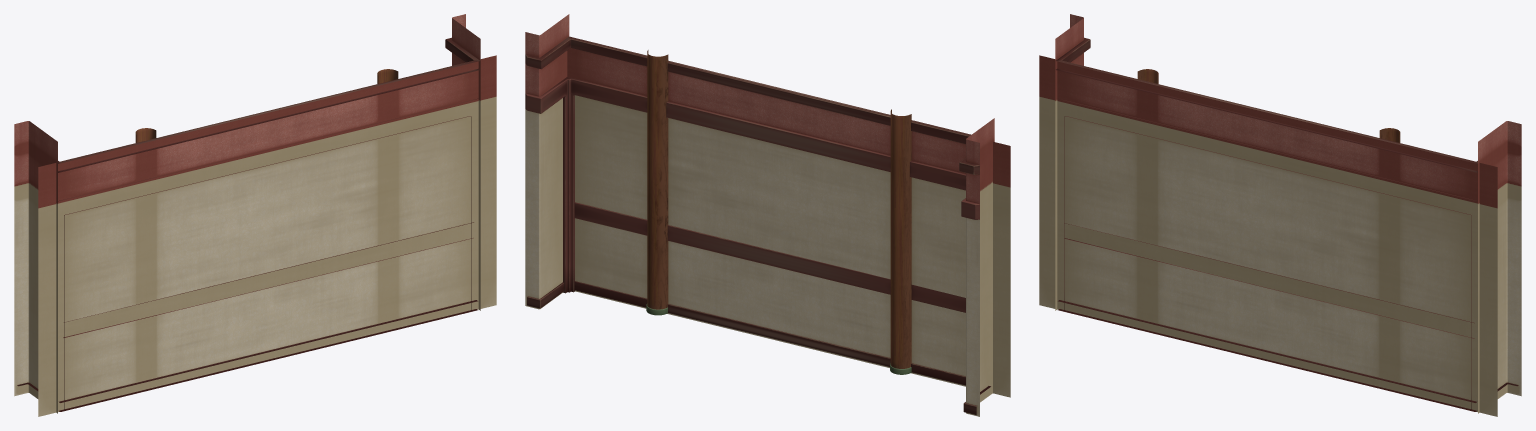
The model's file is TraditionalKoreanHouse_WallB.fbx.
The picture shows the model from 3 angles, left to right: view 1: azimuth 30°, elevation 25°; view 2: azimuth 150°, elevation 25°; view 3: azimuth 330°, elevation 25°; orthographic projection.
Parts seen in each view (by area): view 1: TraditionalKoreanHouse_WallB; view 2: TraditionalKoreanHouse_WallB; view 3: TraditionalKoreanHouse_WallB.
Part boxes in pixels (x1,y1,x2,y2): TraditionalKoreanHouse_WallB: [14, 14, 496, 416]; TraditionalKoreanHouse_WallB: [525, 14, 1010, 416]; TraditionalKoreanHouse_WallB: [1039, 14, 1521, 416].
Size of the model in its own units: 507 by 288 by 60.24.
